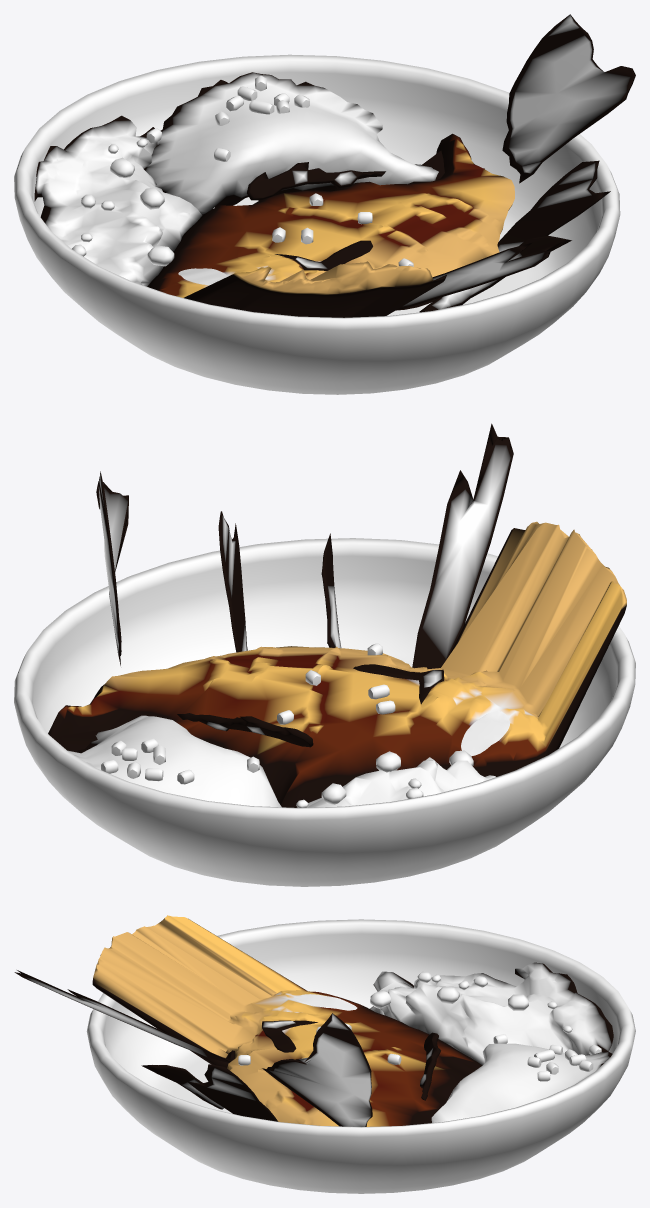
The picture shows the model from 3 angles, top to bottom: view 1: azimuth 30°, elevation 25°; view 2: azimuth 150°, elevation 25°; view 3: azimuth 270°, elevation 25°; orthographic projection. The views are drawn at different scales.
Parts seen in each view (by area): view 1: SM_D10; view 2: SM_D10; view 3: SM_D10.
Boxes of the visible parts, <box> form: SM_D10: <box>14,14,635,394</box>; SM_D10: <box>14,423,635,886</box>; SM_D10: <box>14,915,635,1193</box>.
Size of the model in its own units: 0.216 by 0.097 by 0.2622.
